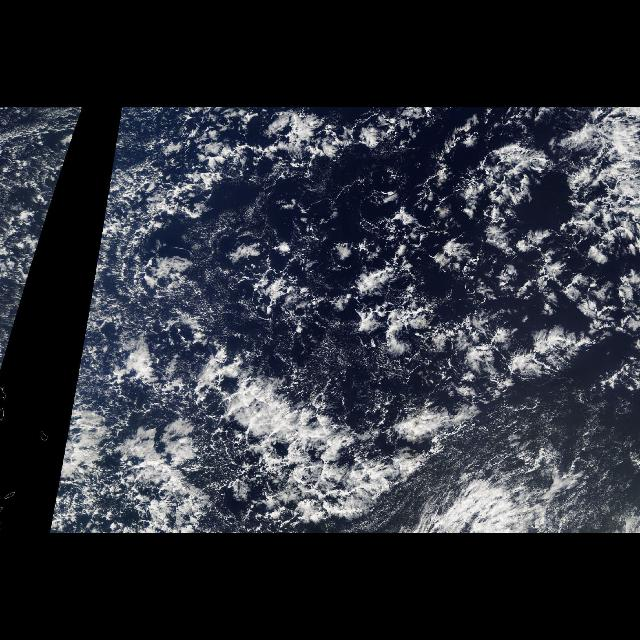Fish: (214, 107, 441, 181)
Gravel: (78, 144, 640, 534), (0, 158, 66, 304)
Sugar: (510, 393, 634, 533)
